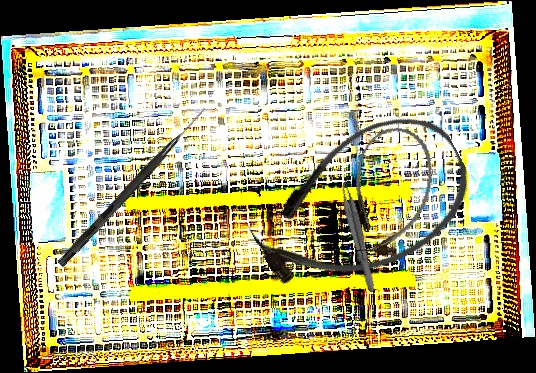Cannula: (232, 95, 490, 315), (338, 119, 443, 265)
Hook Surgical: (57, 103, 208, 270)
Tissue Forceps: (335, 177, 383, 294)
